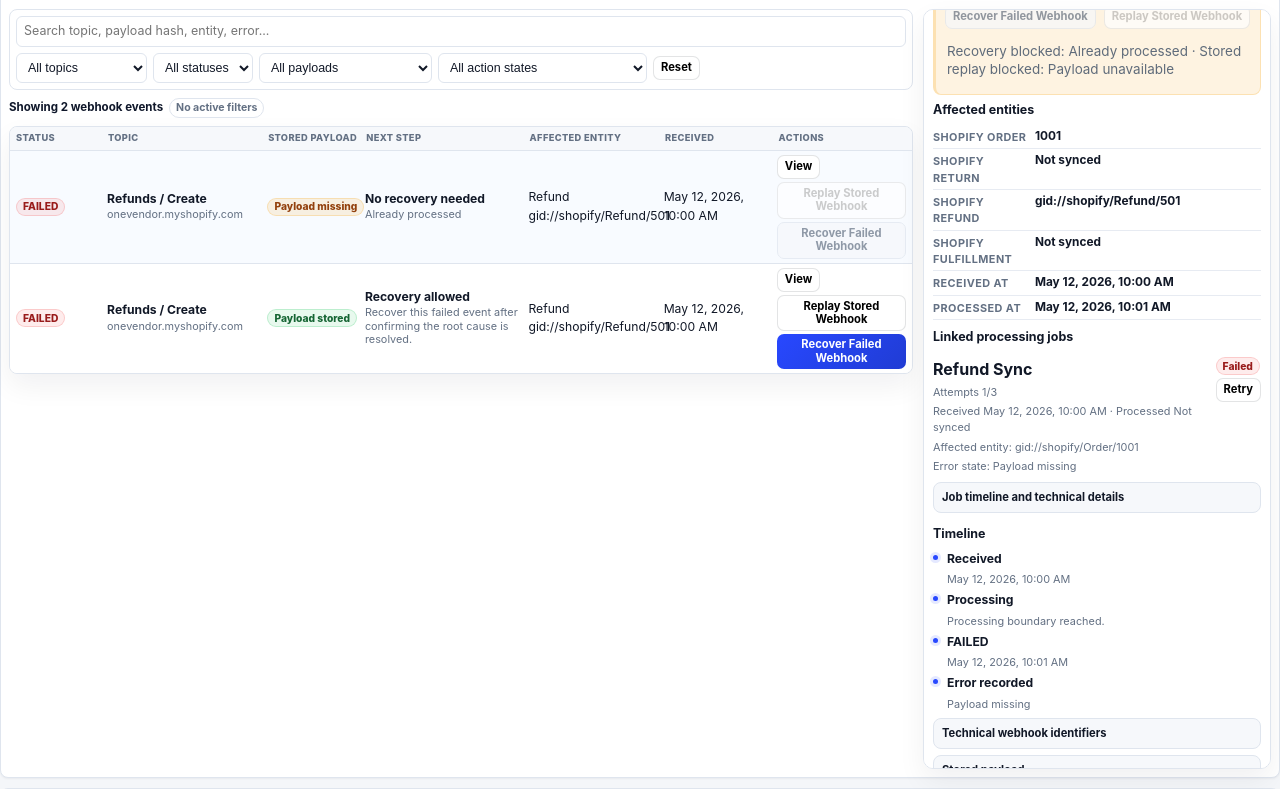
Test: AdminDiagnosticsPage control center › shows operational retry action feedback for retryable jobs
The width and height of the screenshot is (1280, 789).
(page scrolled)
Expected: the text "Refund Sync" is shown, x1=933 y1=359 x2=1032 y2=379
Click the button "Retry".
click(1238, 390)  # box x1=1216 y1=378 x2=1261 y2=402
(page scrolled)
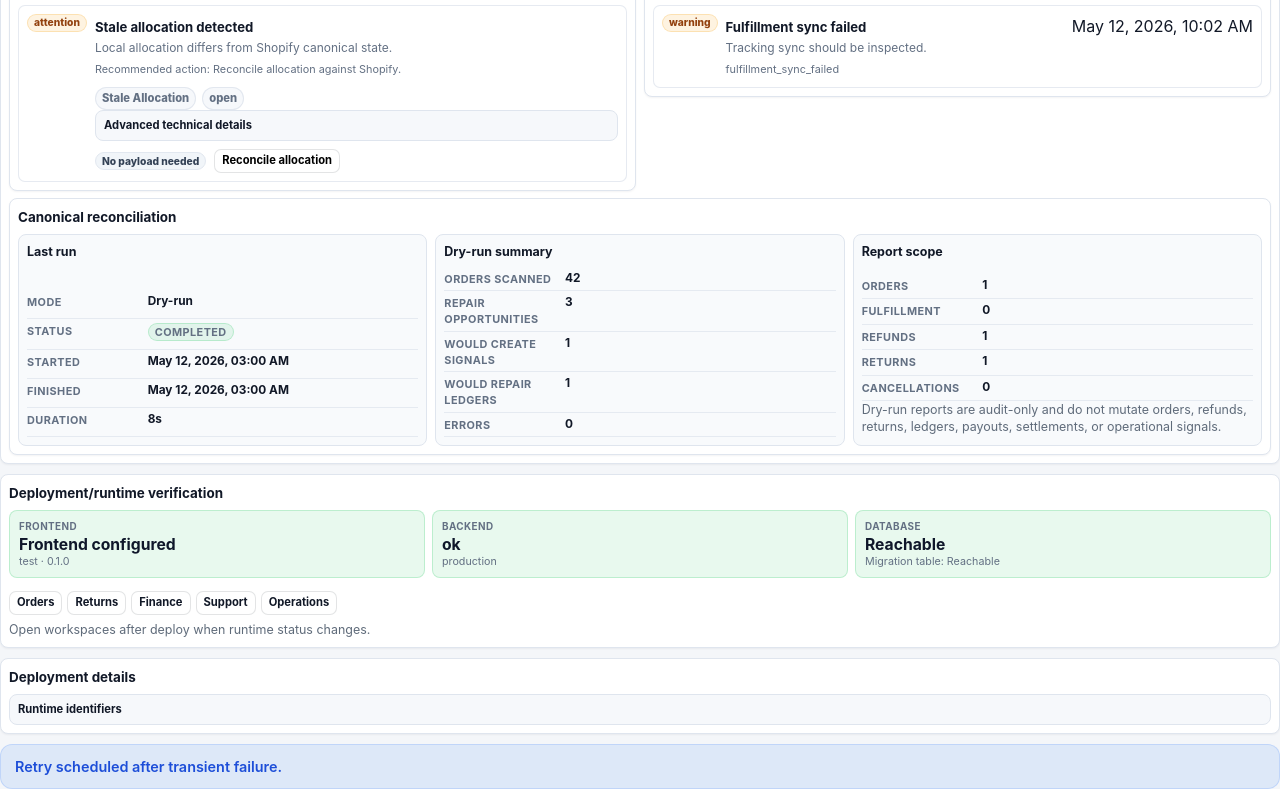
Result: the text "Retry scheduled after transient failure." is shown at x1=0 y1=744 x2=1279 y2=788
